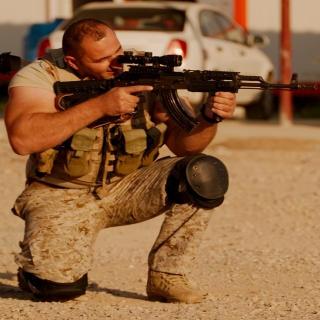rifle: (54, 49, 317, 123)
